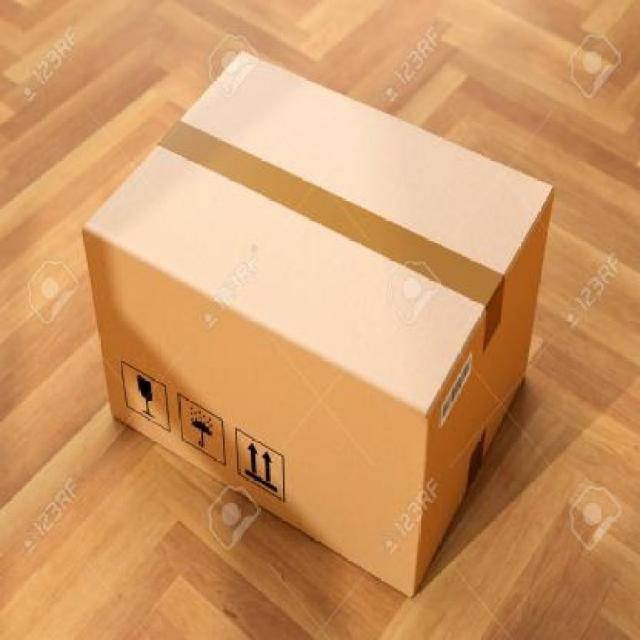box: (79, 42, 565, 598)
